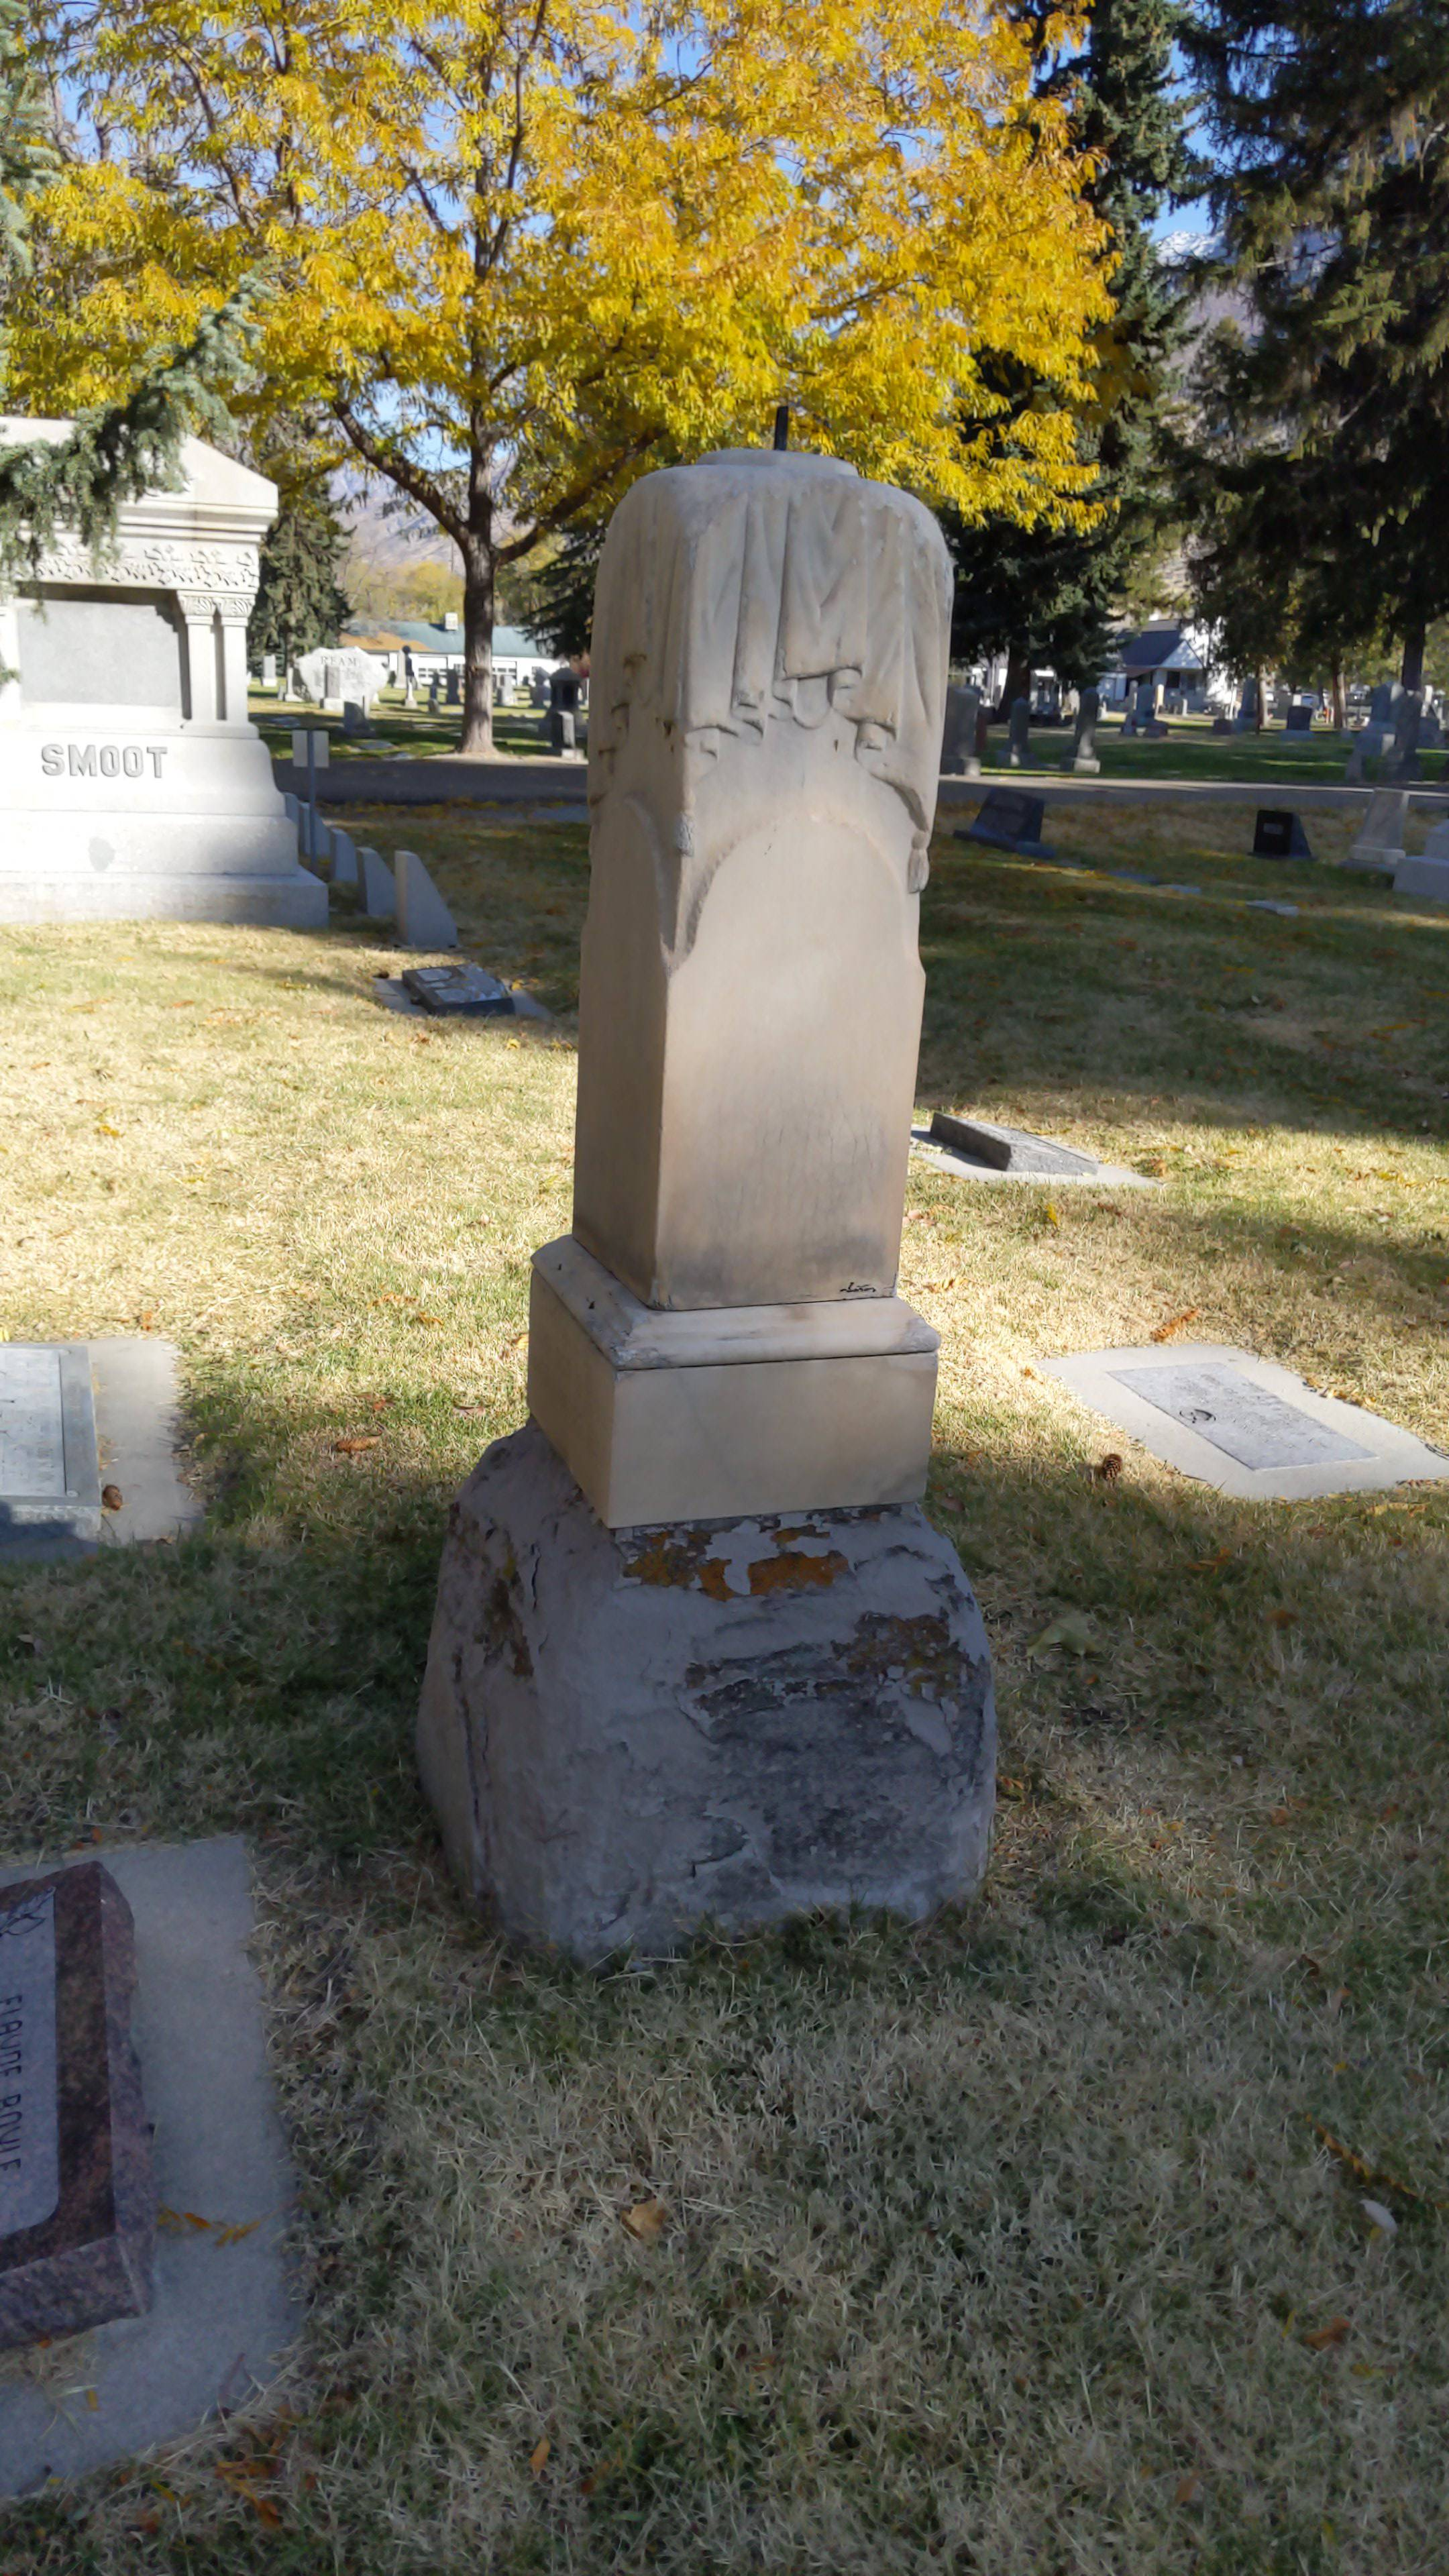obelisk: (531, 462, 941, 1513)
